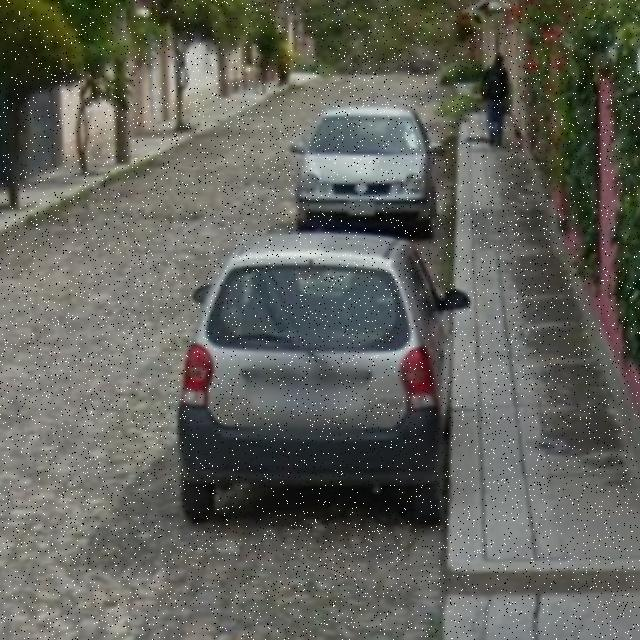cars: (186, 236, 457, 518), (287, 101, 428, 210)
